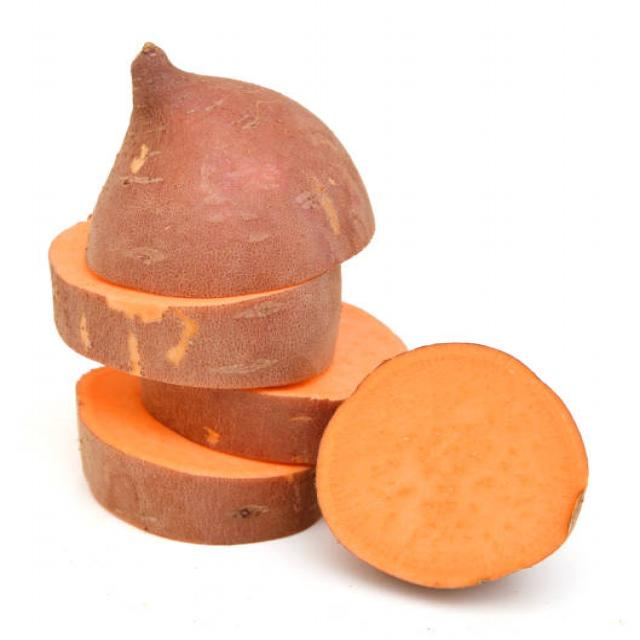Sweet Potato: (82, 37, 376, 291), (320, 336, 594, 590)
